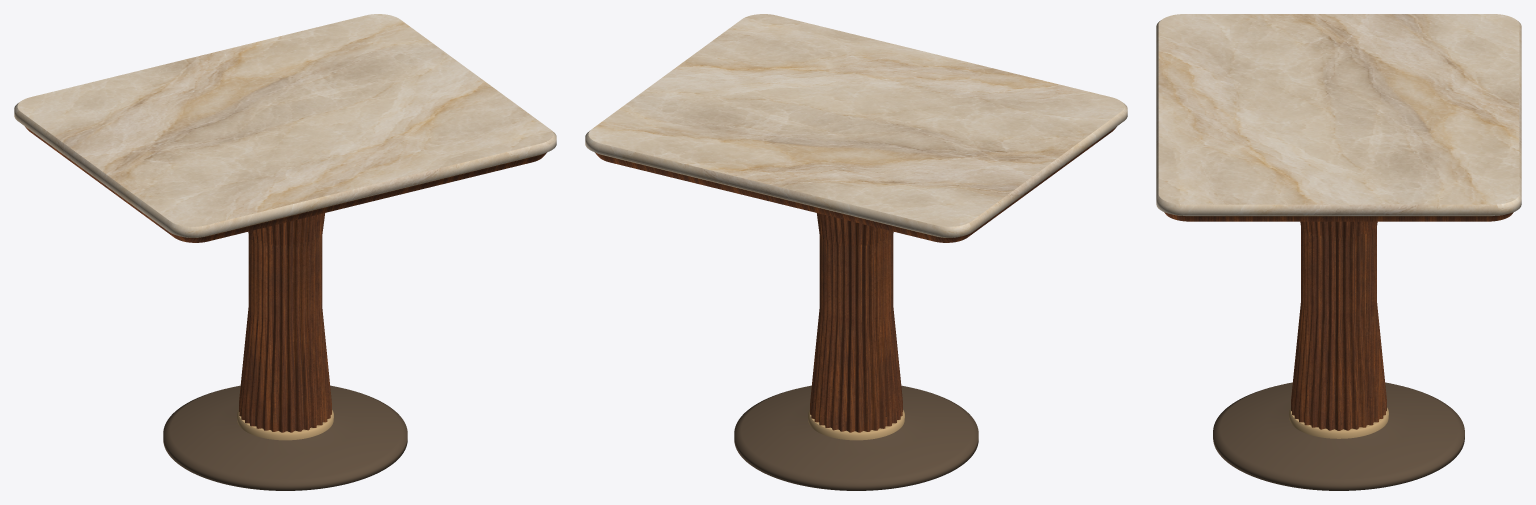
The model's file is SaloonRectangularTableForTwo.glb.
3 views of the same model, side by side, from view 1: azimuth 30°, elevation 25°; view 2: azimuth 150°, elevation 25°; view 3: azimuth 270°, elevation 25° (orthographic). The views are drawn at different scales.
Visible parts, largest first — view 1: Honed quartzite dining surface, Reeded walnut pedestal, Weighted bronze foot, Walnut undercut edge, Lower brass collar; view 2: Honed quartzite dining surface, Reeded walnut pedestal, Weighted bronze foot, Walnut undercut edge, Lower brass collar; view 3: Honed quartzite dining surface, Weighted bronze foot, Reeded walnut pedestal, Walnut undercut edge, Lower brass collar.
Boxes of the visible parts, x1,y1,x2,y2 form: Honed quartzite dining surface: (14, 14, 556, 237); Reeded walnut pedestal: (239, 213, 331, 432); Weighted bronze foot: (163, 385, 407, 490); Walnut undercut edge: (25, 126, 546, 242); Lower brass collar: (237, 410, 333, 440); Honed quartzite dining surface: (585, 14, 1127, 237); Reeded walnut pedestal: (810, 213, 902, 432); Weighted bronze foot: (734, 385, 978, 490); Walnut undercut edge: (595, 126, 1116, 242); Lower brass collar: (808, 410, 904, 440); Honed quartzite dining surface: (1156, 14, 1521, 215); Weighted bronze foot: (1213, 382, 1464, 490); Reeded walnut pedestal: (1291, 221, 1386, 430); Walnut undercut edge: (1164, 212, 1513, 221); Lower brass collar: (1289, 407, 1388, 438).
Bounding box in the file's own units: 0.95 × 0.76 × 0.76.
4 materials, 2 textured.
